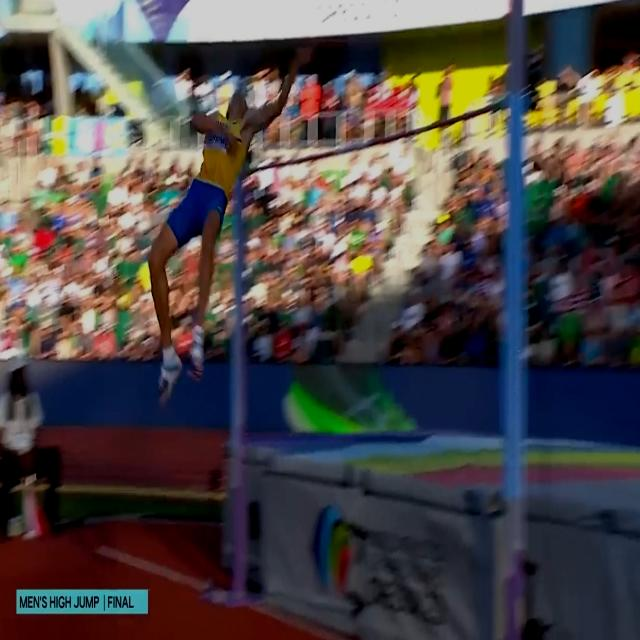jump: (148, 55, 310, 408)
